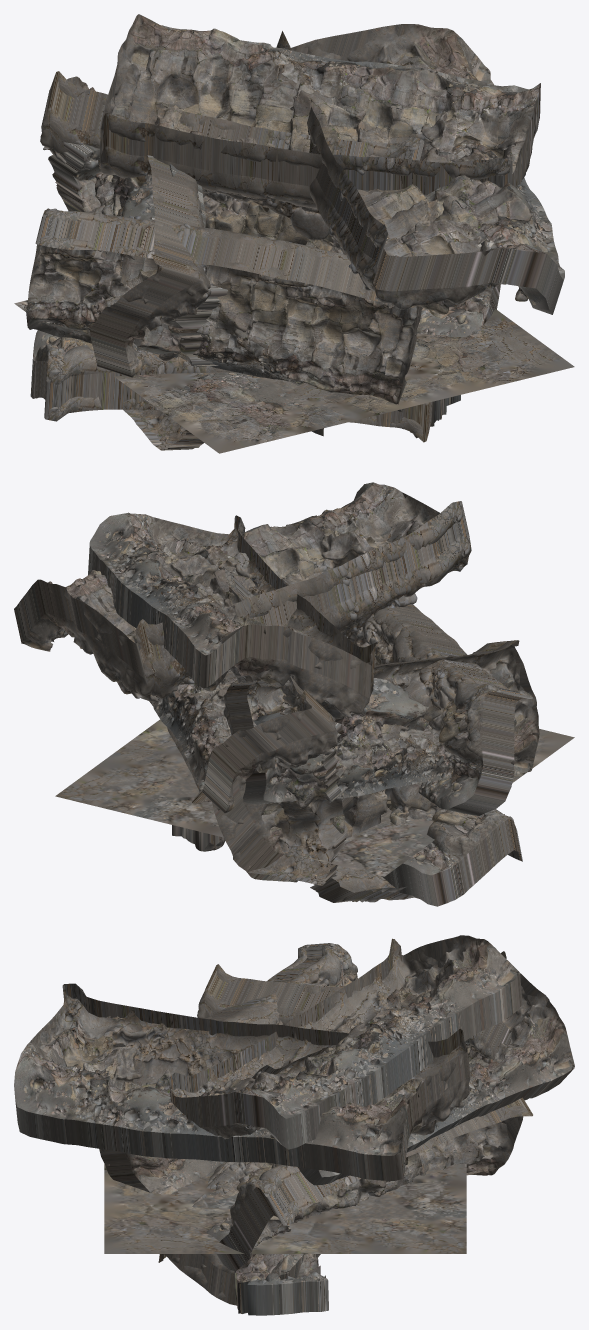
The model's file is cave.gltf.
3 renders of one model, top to bottom at view 1: azimuth 30°, elevation 25°; view 2: azimuth 150°, elevation 25°; view 3: azimuth 270°, elevation 25°, orthographic. The views are drawn at different scales.
Parts seen in each view (by area): view 1: Aset_rock_assembly_XL_siEoZ_LOD0.009_Aset_rock_assembly_XL_s, Aset_rock_assembly_XL_siEoZ_LOD0.003_Aset_rock_assembly_XL_s, Aset_rock_assembly_XL_siEoZ_LOD0.004_Aset_rock_assembly_XL_s, 平面, Aset_rock_assembly_XL_siEoZ_LOD0.002_Aset_rock_assembly_XL_s, Aset_rock_assembly_XL_siEoZ_LOD0.001_Aset_rock_assembly_XL_, Aset_rock_assembly_XL_siEoZ_LOD0.010_Aset_rock_assembly_XL_s, Aset_rock_assembly_XL_siEoZ_LOD0, Aset_rock_assembly_XL_siEoZ_LOD0.006_Aset_rock_assembly_XL_s, Aset_rock_assembly_XL_siEoZ_LOD0.005_Aset_rock_assembly_XL_s, Aset_rock_assembly_XL_siEoZ_LOD0.008_Aset_rock_assembly_XL_s; view 2: Aset_rock_assembly_XL_siEoZ_LOD0.004_Aset_rock_assembly_XL_s, Aset_rock_assembly_XL_siEoZ_LOD0.009_Aset_rock_assembly_XL_s, Aset_rock_assembly_XL_siEoZ_LOD0.003_Aset_rock_assembly_XL_s, Aset_rock_assembly_XL_siEoZ_LOD0.002_Aset_rock_assembly_XL_s, 平面, Aset_rock_assembly_XL_siEoZ_LOD0.001_Aset_rock_assembly_XL_, Aset_rock_assembly_XL_siEoZ_LOD0.010_Aset_rock_assembly_XL_s, Aset_rock_assembly_XL_siEoZ_LOD0.005_Aset_rock_assembly_XL_s, Aset_rock_assembly_XL_siEoZ_LOD0.008_Aset_rock_assembly_XL_s, Aset_rock_assembly_XL_siEoZ_LOD0, Aset_rock_assembly_XL_siEoZ_LOD0.007_Aset_rock_assembly_XL_s; view 3: Aset_rock_assembly_XL_siEoZ_LOD0.004_Aset_rock_assembly_XL_s, Aset_rock_assembly_XL_siEoZ_LOD0.009_Aset_rock_assembly_XL_s, 平面, Aset_rock_assembly_XL_siEoZ_LOD0, Aset_rock_assembly_XL_siEoZ_LOD0.001_Aset_rock_assembly_XL_, Aset_rock_assembly_XL_siEoZ_LOD0.003_Aset_rock_assembly_XL_s, Aset_rock_assembly_XL_siEoZ_LOD0.002_Aset_rock_assembly_XL_s, Aset_rock_assembly_XL_siEoZ_LOD0.007_Aset_rock_assembly_XL_s, Aset_rock_assembly_XL_siEoZ_LOD0.010_Aset_rock_assembly_XL_s.
Part boxes in pixels (x1,y1,x2,y2): Aset_rock_assembly_XL_siEoZ_LOD0.009_Aset_rock_assembly_XL_s: [100, 14, 540, 208]; Aset_rock_assembly_XL_siEoZ_LOD0.003_Aset_rock_assembly_XL_s: [26, 208, 422, 412]; Aset_rock_assembly_XL_siEoZ_LOD0.004_Aset_rock_assembly_XL_s: [276, 24, 564, 314]; 平面: [14, 300, 574, 453]; Aset_rock_assembly_XL_siEoZ_LOD0.002_Aset_rock_assembly_XL_s: [90, 118, 211, 377]; Aset_rock_assembly_XL_siEoZ_LOD0.001_Aset_rock_assembly_XL_: [40, 71, 423, 240]; Aset_rock_assembly_XL_siEoZ_LOD0.010_Aset_rock_assembly_XL_s: [30, 330, 432, 442]; Aset_rock_assembly_XL_siEoZ_LOD0: [203, 193, 500, 337]; Aset_rock_assembly_XL_siEoZ_LOD0.006_Aset_rock_assembly_XL_s: [123, 285, 227, 450]; Aset_rock_assembly_XL_siEoZ_LOD0.005_Aset_rock_assembly_XL_s: [48, 142, 100, 212]; Aset_rock_assembly_XL_siEoZ_LOD0.008_Aset_rock_assembly_XL_s: [101, 163, 205, 227]; Aset_rock_assembly_XL_siEoZ_LOD0.004_Aset_rock_assembly_XL_s: [14, 482, 471, 702]; Aset_rock_assembly_XL_siEoZ_LOD0.009_Aset_rock_assembly_XL_s: [88, 512, 375, 719]; Aset_rock_assembly_XL_siEoZ_LOD0.003_Aset_rock_assembly_XL_s: [353, 604, 532, 815]; Aset_rock_assembly_XL_siEoZ_LOD0.002_Aset_rock_assembly_XL_s: [223, 640, 539, 804]; 平面: [55, 719, 574, 876]; Aset_rock_assembly_XL_siEoZ_LOD0.001_Aset_rock_assembly_XL_: [152, 566, 337, 813]; Aset_rock_assembly_XL_siEoZ_LOD0.010_Aset_rock_assembly_XL_s: [381, 782, 522, 906]; Aset_rock_assembly_XL_siEoZ_LOD0.005_Aset_rock_assembly_XL_s: [248, 712, 353, 885]; Aset_rock_assembly_XL_siEoZ_LOD0.008_Aset_rock_assembly_XL_s: [310, 675, 429, 902]; Aset_rock_assembly_XL_siEoZ_LOD0: [149, 701, 297, 882]; Aset_rock_assembly_XL_siEoZ_LOD0.007_Aset_rock_assembly_XL_s: [172, 825, 225, 851]; Aset_rock_assembly_XL_siEoZ_LOD0.004_Aset_rock_assembly_XL_s: [14, 983, 470, 1180]; Aset_rock_assembly_XL_siEoZ_LOD0.009_Aset_rock_assembly_XL_s: [169, 935, 522, 1149]; 平面: [104, 1163, 466, 1253]; Aset_rock_assembly_XL_siEoZ_LOD0: [206, 1097, 532, 1271]; Aset_rock_assembly_XL_siEoZ_LOD0.001_Aset_rock_assembly_XL_: [252, 951, 574, 1185]; Aset_rock_assembly_XL_siEoZ_LOD0.003_Aset_rock_assembly_XL_s: [99, 943, 357, 1194]; Aset_rock_assembly_XL_siEoZ_LOD0.002_Aset_rock_assembly_XL_s: [197, 964, 511, 1061]; Aset_rock_assembly_XL_siEoZ_LOD0.007_Aset_rock_assembly_XL_s: [234, 1254, 328, 1315]; Aset_rock_assembly_XL_siEoZ_LOD0.010_Aset_rock_assembly_XL_s: [158, 1162, 320, 1305].
Bounding box in the file's own units: 15.3 × 10.14 × 16.61.
1 material, 1 textured.
